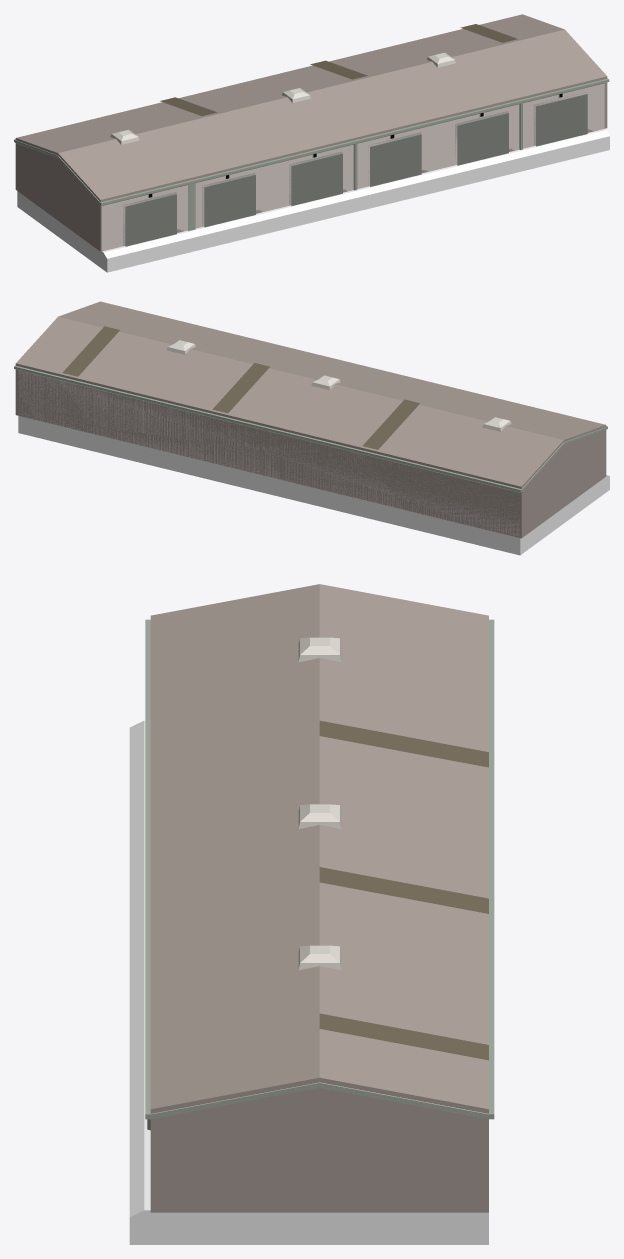
Rendered from warehouse_storage.dae.
3 views of the same model, one above another, from view 1: azimuth 30°, elevation 25°; view 2: azimuth 150°, elevation 25°; view 3: azimuth 270°, elevation 25° (orthographic). The views are drawn at different scales.
Parts seen in each view (by area): view 1: warehouse_storage_a150, warehouse_storage_a600, warehouse_storage_a300, Colmesh-1; view 2: warehouse_storage_a150, warehouse_storage_a300, warehouse_storage_a600, Colmesh-1; view 3: warehouse_storage_a150, warehouse_storage_a600, warehouse_storage_a300, Colmesh-1.
Boxes of the visible parts, x1,y1,x2,y2 form: warehouse_storage_a150: [15, 14, 607, 251]; warehouse_storage_a600: [17, 52, 609, 272]; warehouse_storage_a300: [14, 78, 609, 250]; Colmesh-1: [14, 57, 609, 250]; warehouse_storage_a150: [15, 301, 606, 538]; warehouse_storage_a300: [14, 365, 607, 537]; warehouse_storage_a600: [18, 340, 609, 555]; Colmesh-1: [14, 344, 607, 537]; warehouse_storage_a150: [150, 584, 488, 1212]; warehouse_storage_a600: [129, 637, 488, 1244]; warehouse_storage_a300: [145, 619, 494, 1119]; Colmesh-1: [145, 639, 494, 1130].
Bounding box in the file's own units: 27.06 × 8.43 × 4.52.
